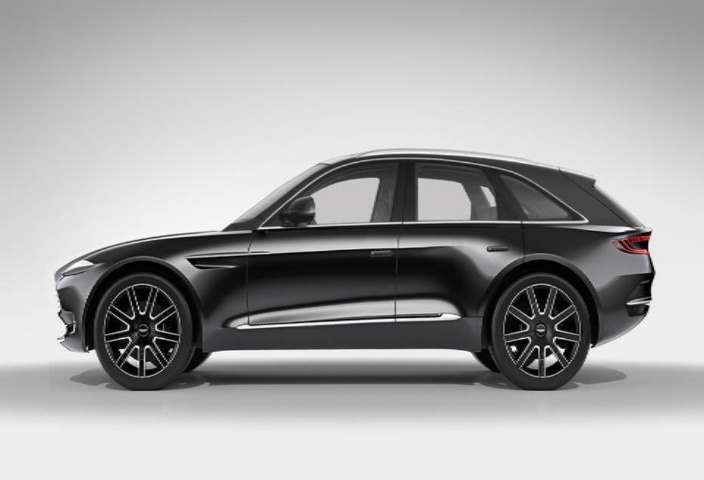camper: (41, 136, 680, 407)
